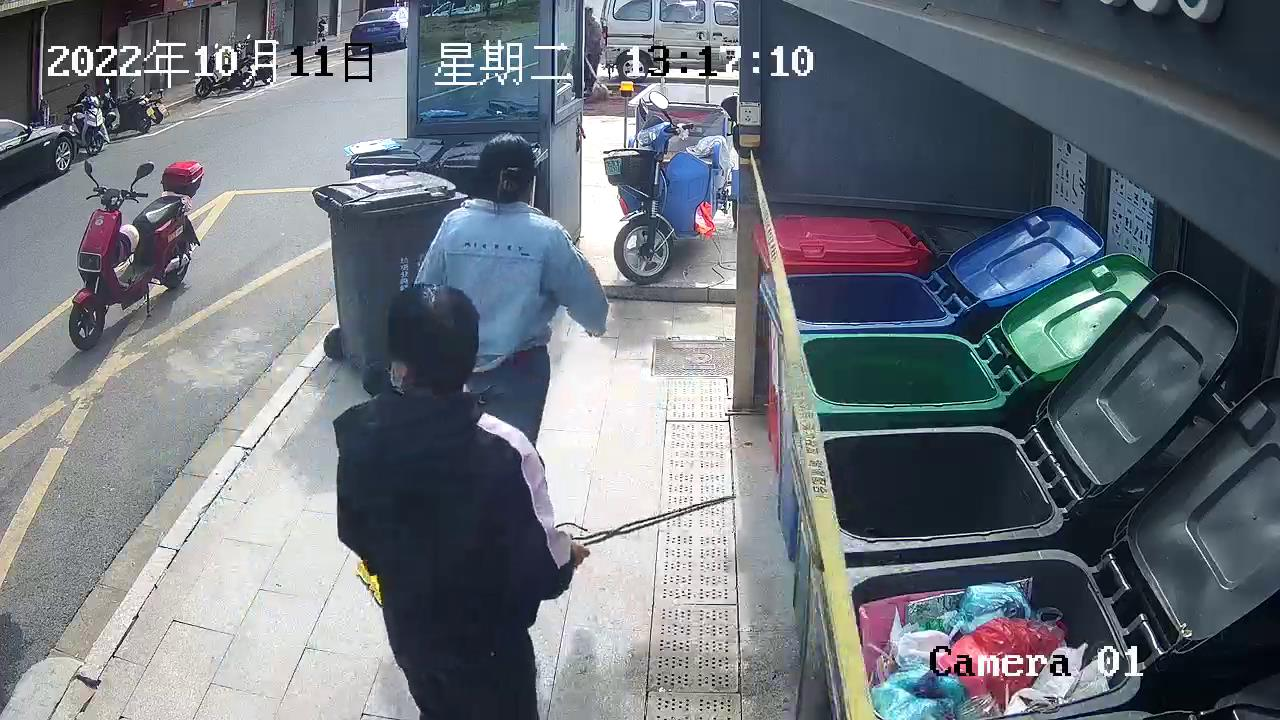person: (331, 283, 592, 720)
worker: (415, 129, 611, 448)
